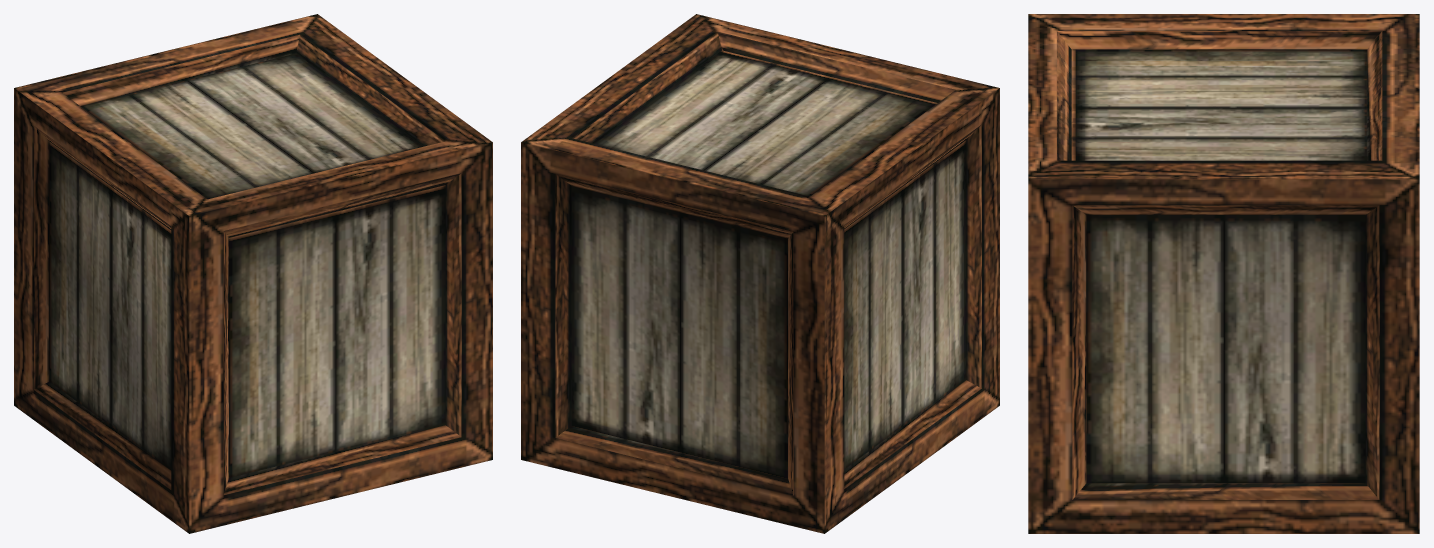
Rendered from INST_SWORDLIGHT_CRATES.fbx.
3 views of the same model, side by side, from view 1: azimuth 30°, elevation 25°; view 2: azimuth 150°, elevation 25°; view 3: azimuth 270°, elevation 25° (orthographic). The views are drawn at different scales.
Visible parts, largest first — view 1: INST_SWORDLIGHT_CRATES; view 2: INST_SWORDLIGHT_CRATES; view 3: INST_SWORDLIGHT_CRATES.
Part boxes in pixels (x1=…): INST_SWORDLIGHT_CRATES: x1=14, y1=14, x2=492, y2=533; INST_SWORDLIGHT_CRATES: x1=521, y1=14, x2=999, y2=533; INST_SWORDLIGHT_CRATES: x1=1028, y1=14, x2=1419, y2=533.
Bounding box in the file's own units: 7095 × 7095 × 7095.
1 material, 1 textured.
